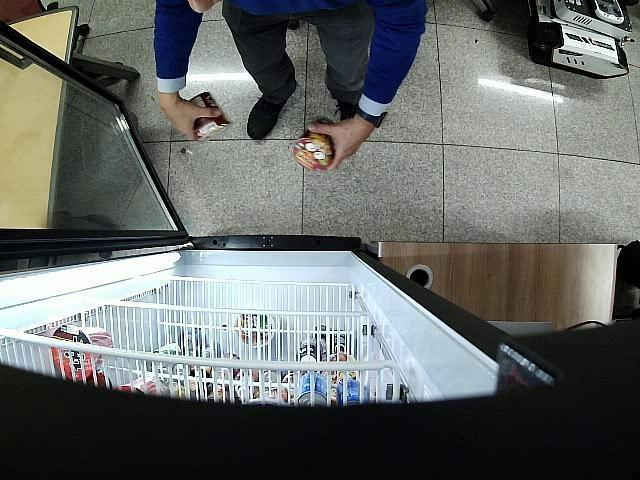06_nuguri_S: (293, 118, 336, 172), (188, 92, 230, 138)
